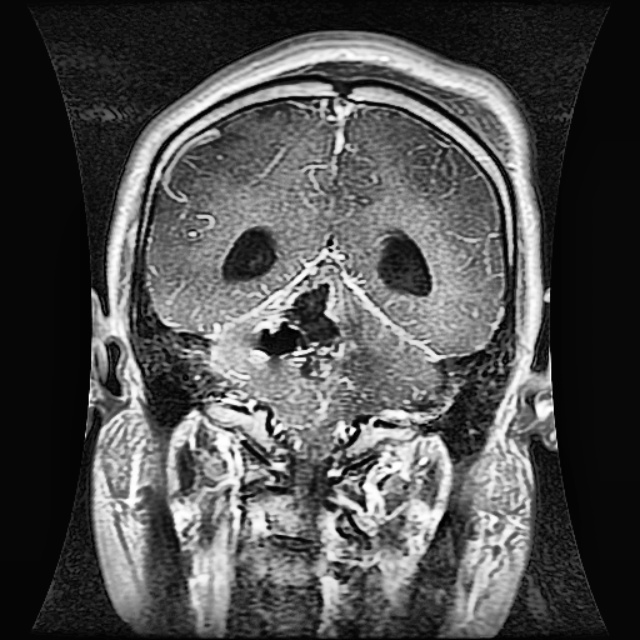Meningioma: (248, 247, 354, 382)
